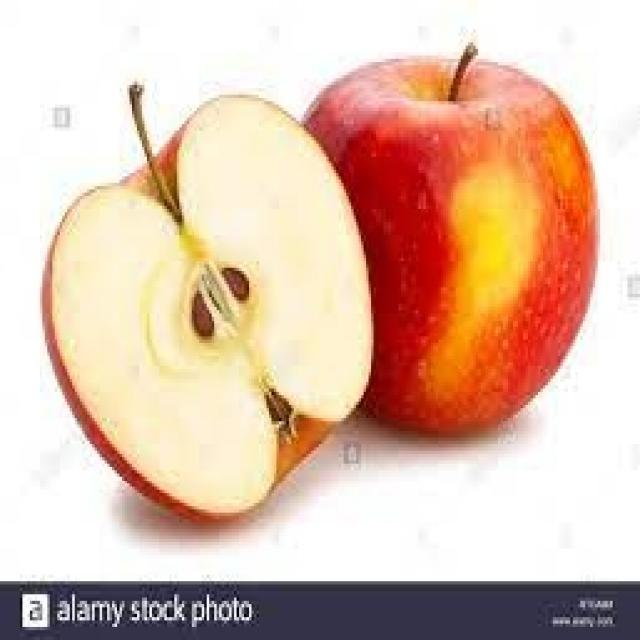Apple: (30, 94, 403, 536), (276, 52, 620, 438)
